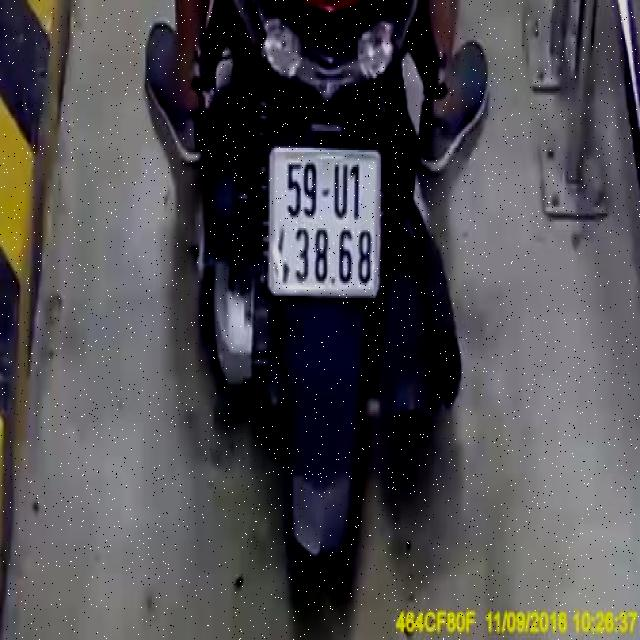1: (349, 160, 362, 224)
3: (293, 227, 312, 287)
4: (273, 225, 294, 283)
5: (284, 158, 302, 218)
6: (338, 226, 353, 286)
8: (358, 227, 374, 286), (315, 226, 330, 284)
9: (302, 161, 318, 218)
U: (333, 162, 351, 220)
